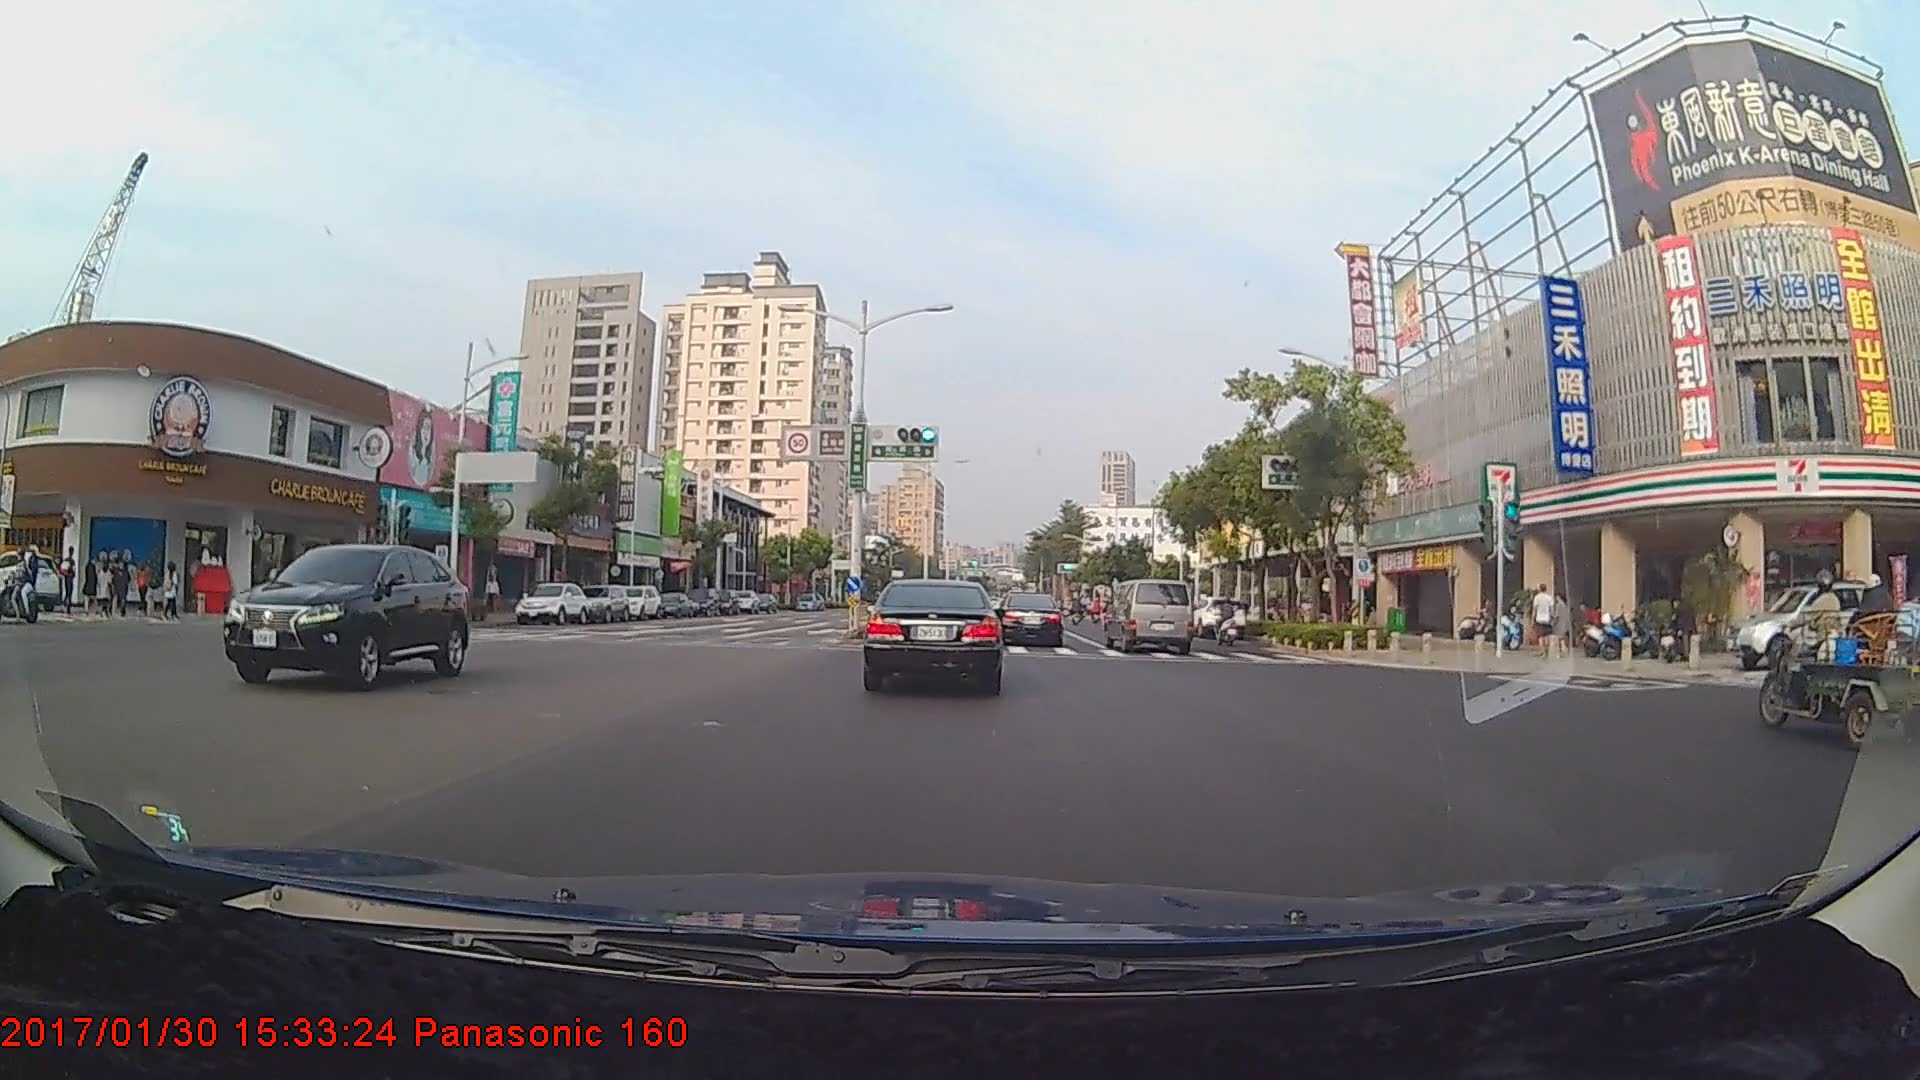pedestrian: (1531, 586, 1557, 657), (1553, 596, 1575, 664), (108, 557, 131, 618)
rider: (2, 541, 44, 631), (1211, 594, 1246, 646)
vehicle: (231, 538, 470, 688), (865, 575, 1002, 693), (1721, 582, 1880, 671), (1099, 579, 1196, 656), (996, 593, 1064, 648), (511, 581, 589, 626), (1190, 595, 1249, 640), (577, 584, 630, 623), (612, 585, 662, 622), (659, 588, 694, 619)
